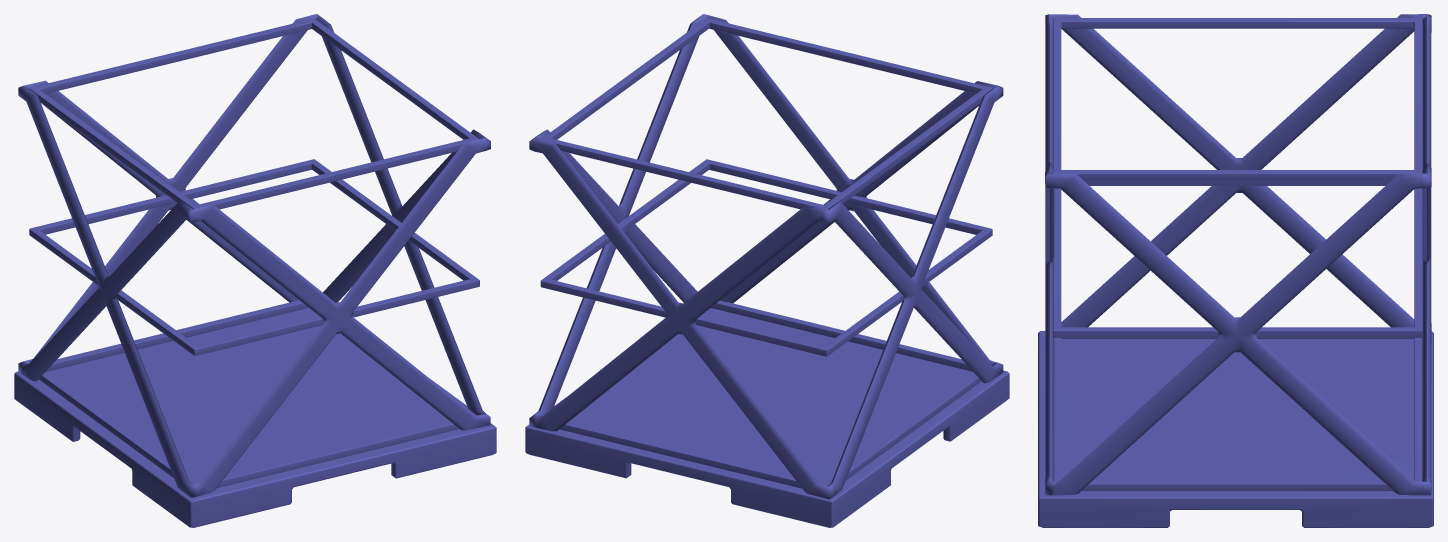
3 views of the same model, side by side, from view 1: azimuth 30°, elevation 25°; view 2: azimuth 150°, elevation 25°; view 3: azimuth 270°, elevation 25° (orthographic). The views are drawn at different scales.
Parts seen in each view (by area): view 1: Box248; view 2: Box248; view 3: Box248.
Boxes of the visible parts, x1=… form: Box248: x1=14, y1=14, x2=496, y2=527; Box248: x1=525, y1=14, x2=1009, y2=527; Box248: x1=1038, y1=14, x2=1433, y2=527.
Size of the model in its own units: 54.55 by 53.41 by 54.55.
